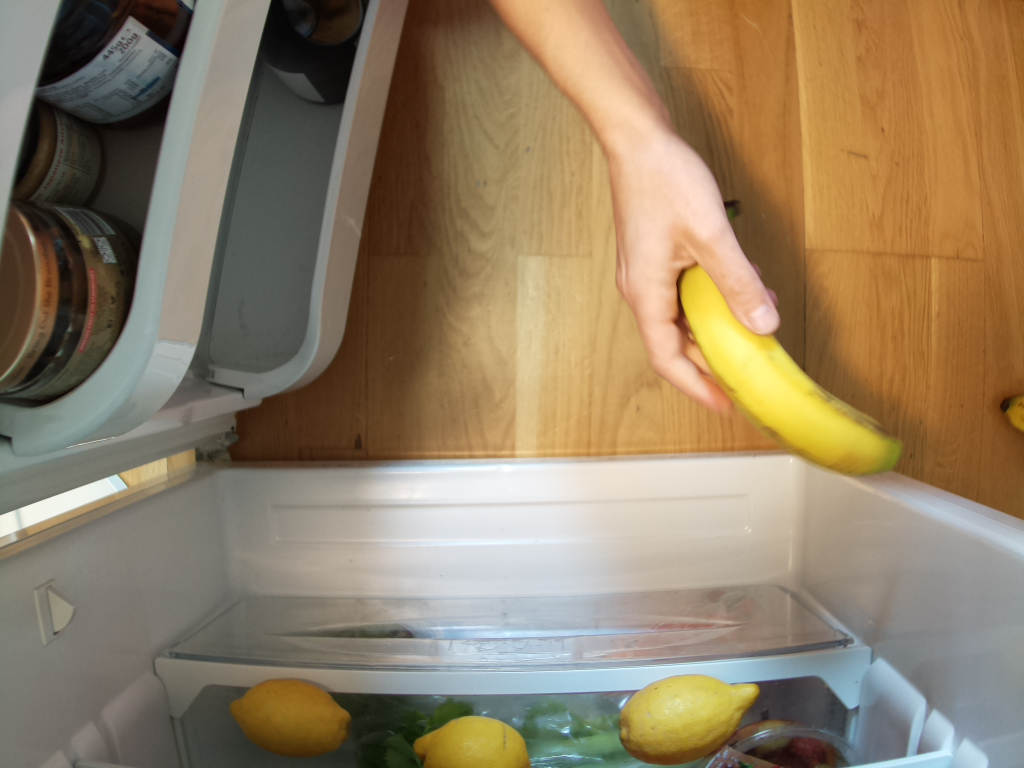banana: (670, 259, 919, 482)
